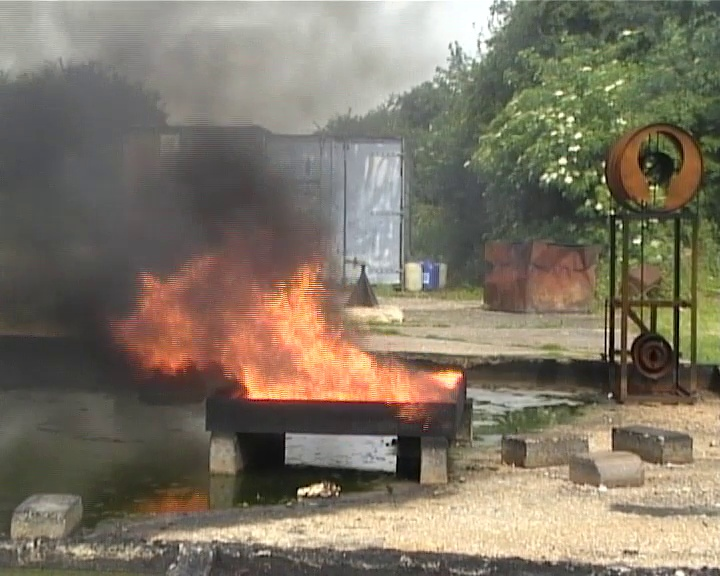fire: (115, 248, 460, 403)
